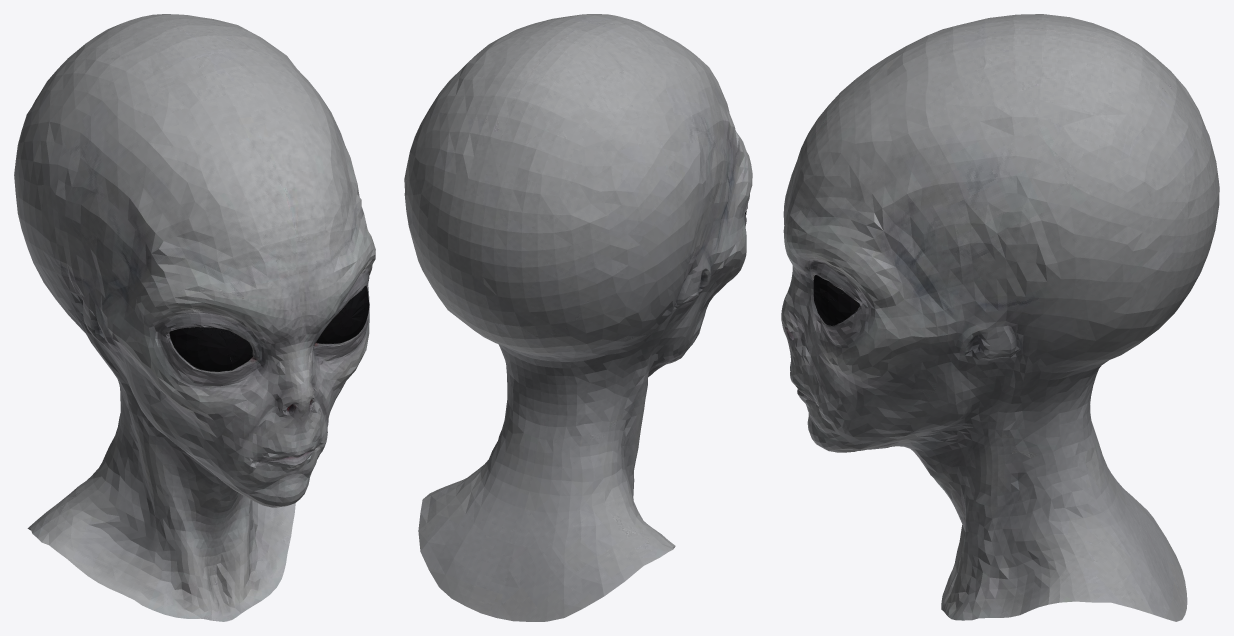
Rendered from ewm_greyalien.glb.
The picture shows the model from 3 angles, left to right: view 1: azimuth 30°, elevation 25°; view 2: azimuth 150°, elevation 25°; view 3: azimuth 270°, elevation 25°; orthographic projection. The views are drawn at different scales.
Parts seen in each view (by area): view 1: ewm_greyalien; view 2: ewm_greyalien; view 3: ewm_greyalien.
Boxes of the visible parts, x1,y1,x2,y2 form: ewm_greyalien: [14, 14, 375, 621]; ewm_greyalien: [404, 14, 752, 621]; ewm_greyalien: [781, 14, 1219, 621].
Bounding box in the file's own units: 0.2089 × 0.4095 × 0.2812.
Materials: 1 (1 with a texture image).
